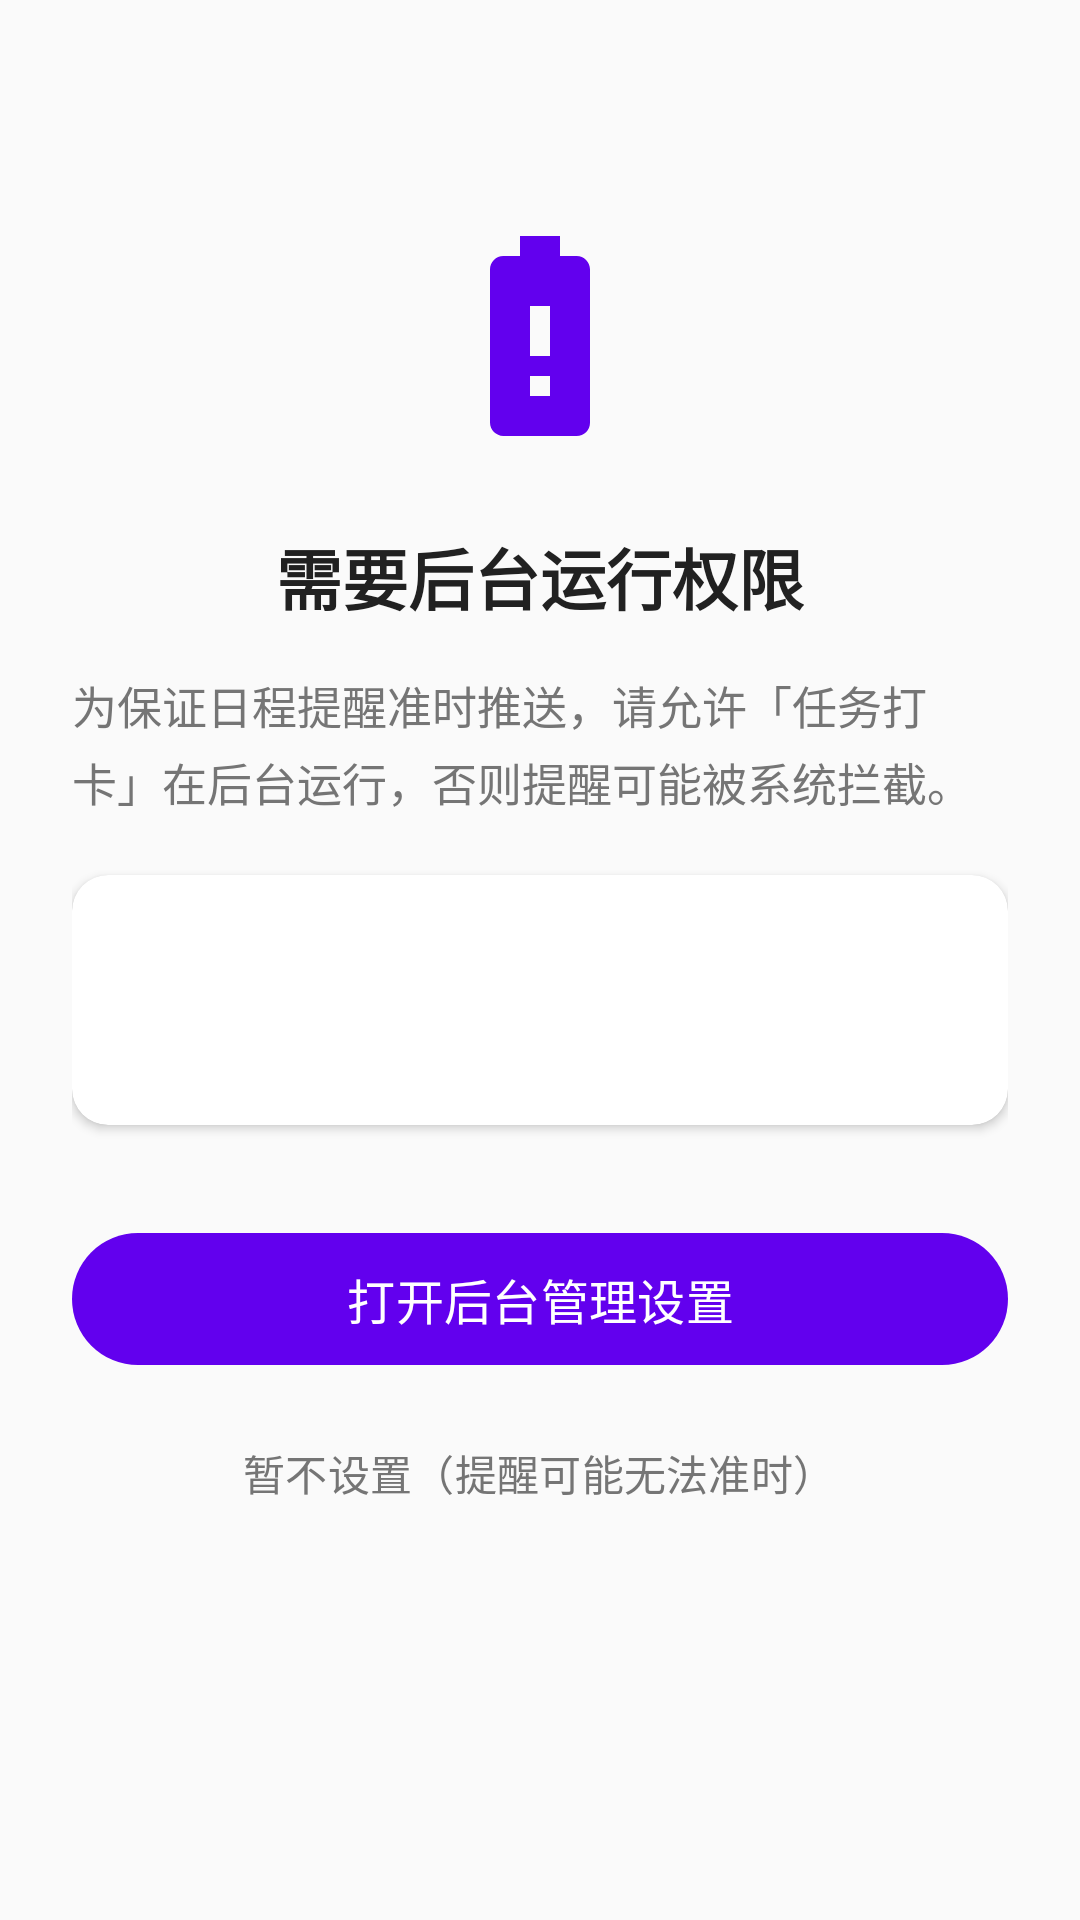

Where to tap for icons on this 1080 × 1920 app screen, as [x,y]:
battery optimization: [540,336]
